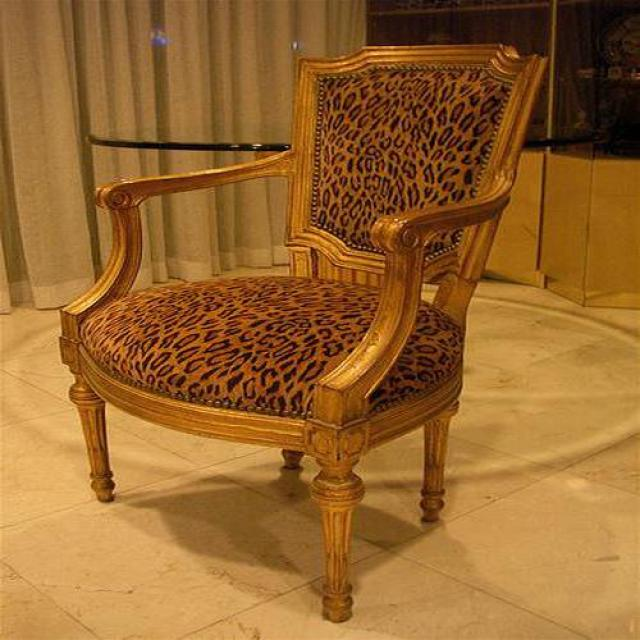chair: (59, 45, 548, 625)
